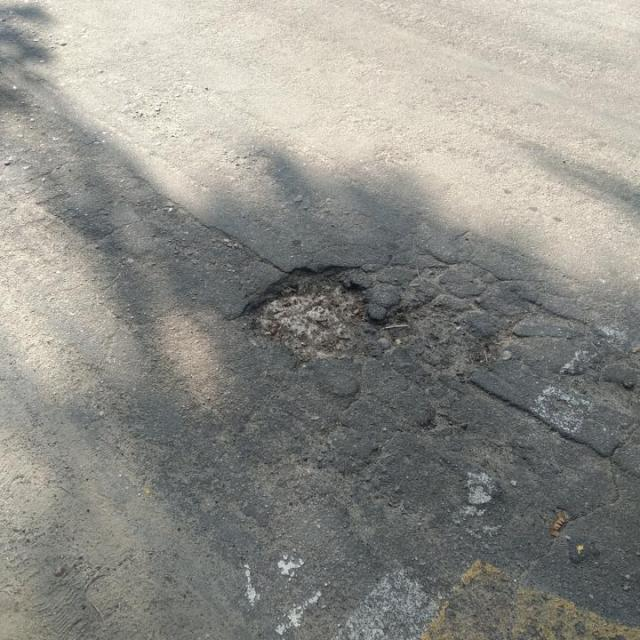pothole: (230, 258, 377, 362), (380, 299, 500, 374)
